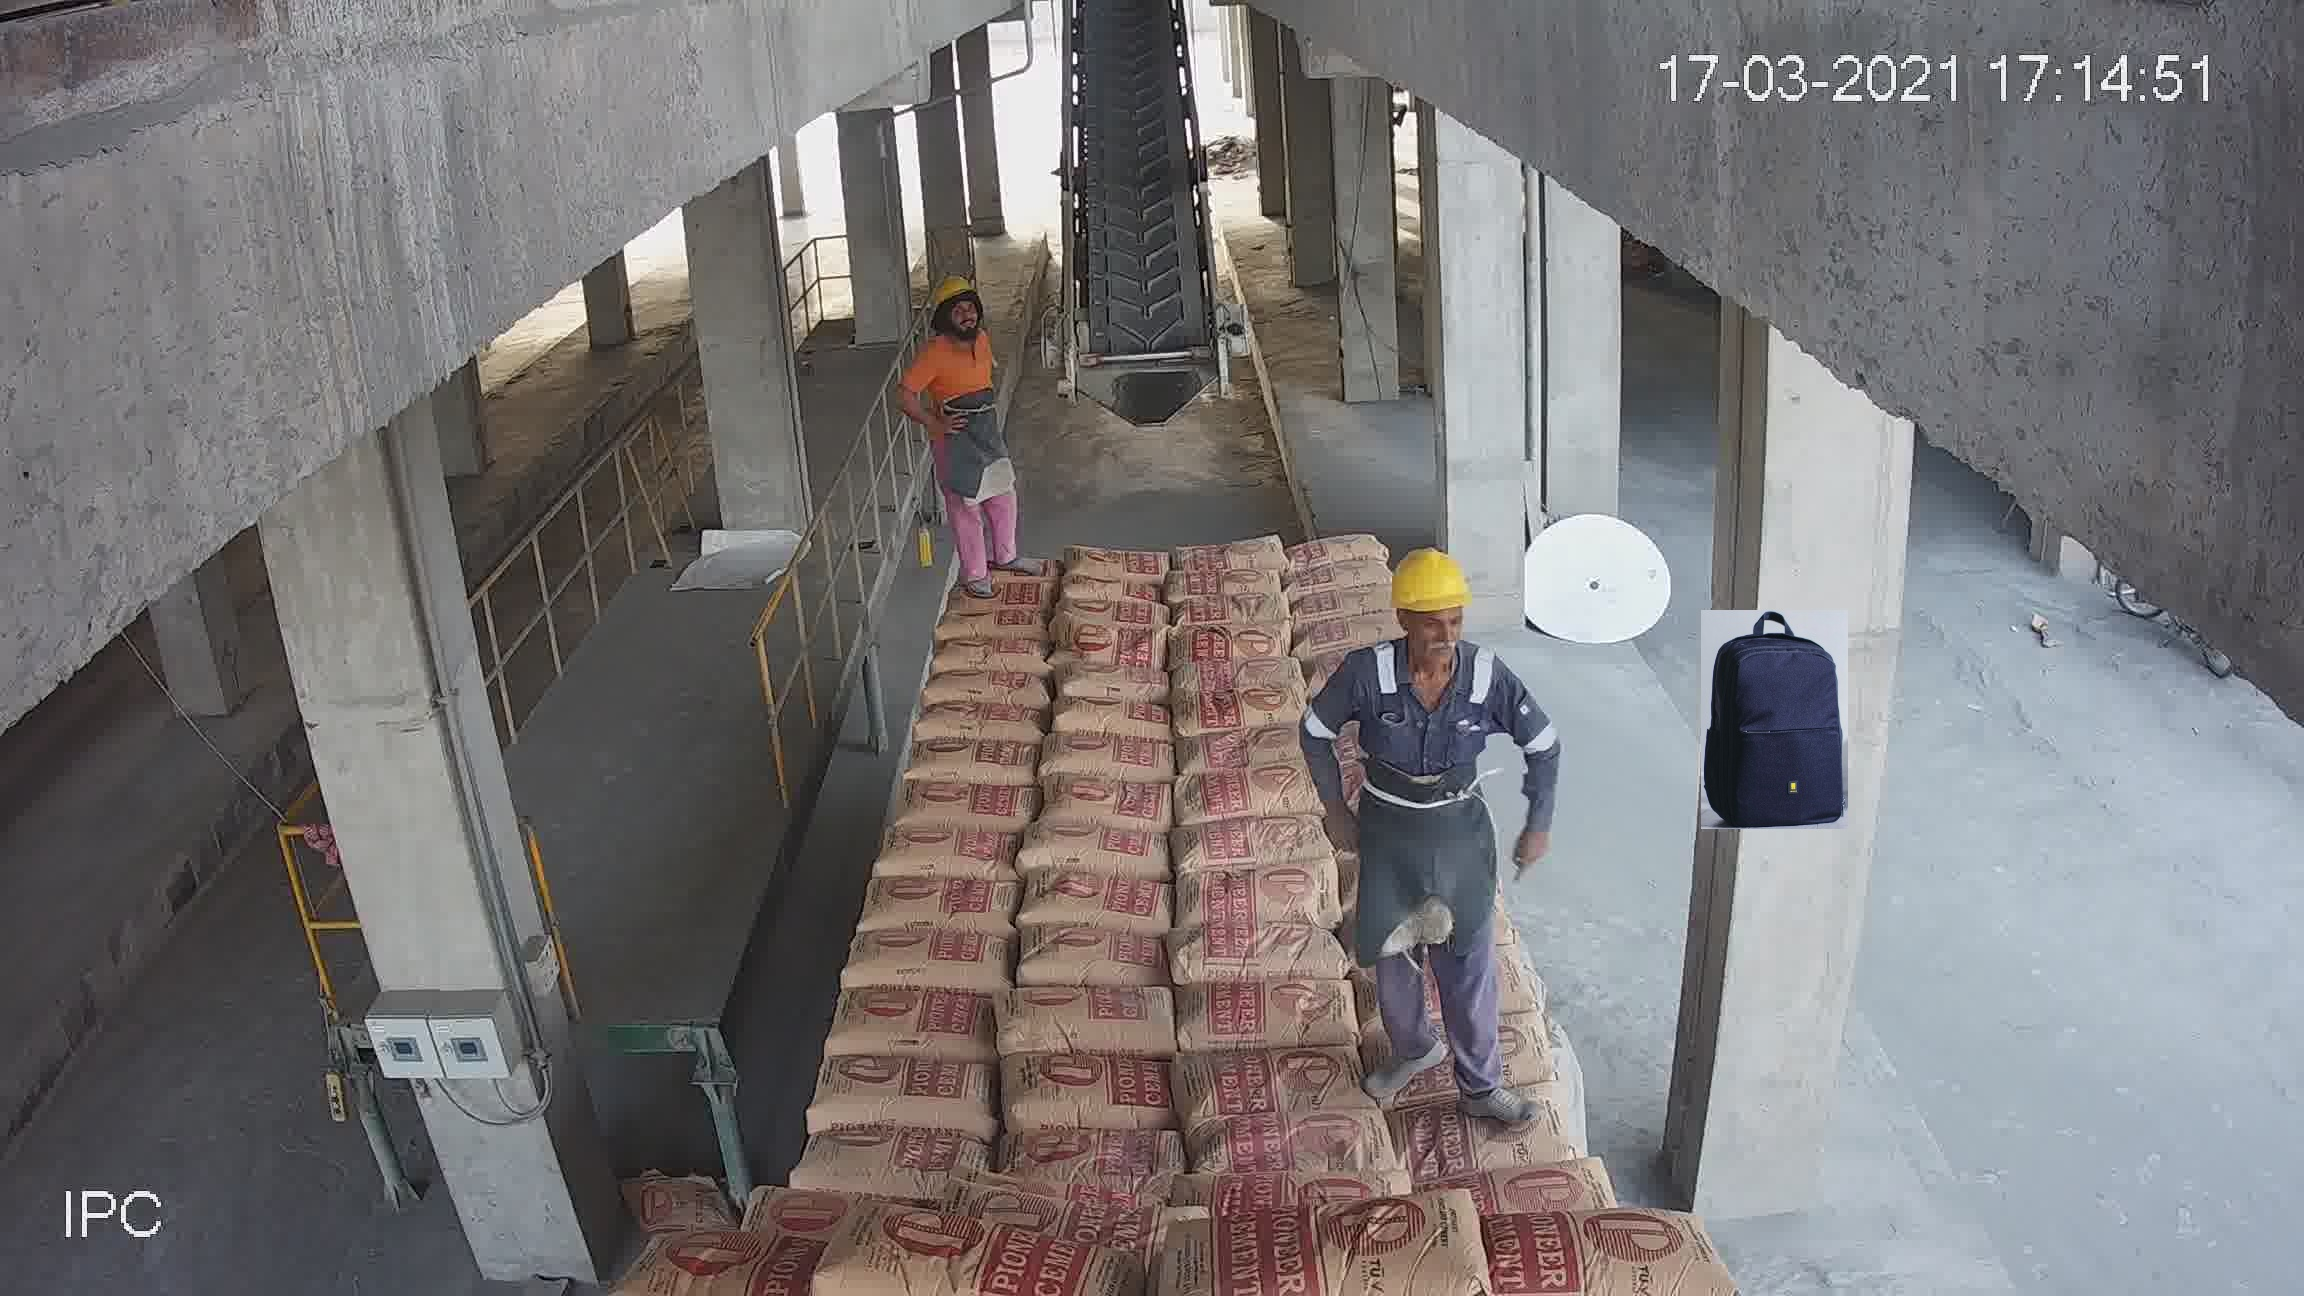bag_h: (1196, 1204, 1510, 1296), (796, 1215, 1127, 1296), (1453, 1207, 1714, 1290), (1204, 1082, 1404, 1169), (1169, 975, 1372, 1055), (807, 1055, 1006, 1135), (639, 1226, 848, 1296), (1002, 986, 1188, 1062), (828, 983, 1005, 1060), (1190, 1109, 1370, 1185), (1010, 1049, 1182, 1127), (855, 870, 1029, 946), (788, 1125, 1000, 1187), (995, 1122, 1187, 1188), (1402, 1108, 1570, 1180), (1437, 1160, 1617, 1225), (1177, 861, 1337, 934), (840, 927, 1014, 994), (1021, 815, 1171, 888), (1180, 926, 1348, 989), (1013, 930, 1180, 992), (1176, 758, 1326, 826), (1040, 772, 1185, 839), (1022, 873, 1180, 932), (1179, 810, 1324, 873), (891, 782, 1040, 837), (908, 696, 1057, 745), (875, 831, 1014, 881), (907, 737, 1041, 790), (1171, 726, 1310, 775), (1168, 654, 1305, 703), (1057, 655, 1177, 709), (1176, 687, 1310, 734), (1051, 739, 1179, 786), (915, 665, 1051, 709), (1067, 612, 1166, 673), (926, 636, 1068, 677), (1052, 698, 1166, 745), (951, 574, 1063, 620), (1171, 619, 1290, 661), (1290, 552, 1393, 601), (1288, 514, 1397, 559), (935, 606, 1048, 646), (1171, 527, 1290, 563), (1293, 581, 1389, 625), (1173, 592, 1290, 627), (1059, 600, 1176, 635), (1071, 543, 1171, 582), (1171, 567, 1283, 601), (1054, 574, 1165, 608)
belt: (1054, 19, 1214, 413)
